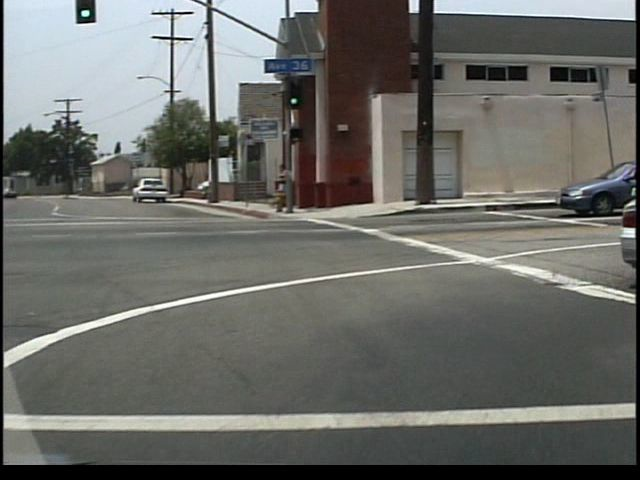person: (280, 164, 298, 214)
